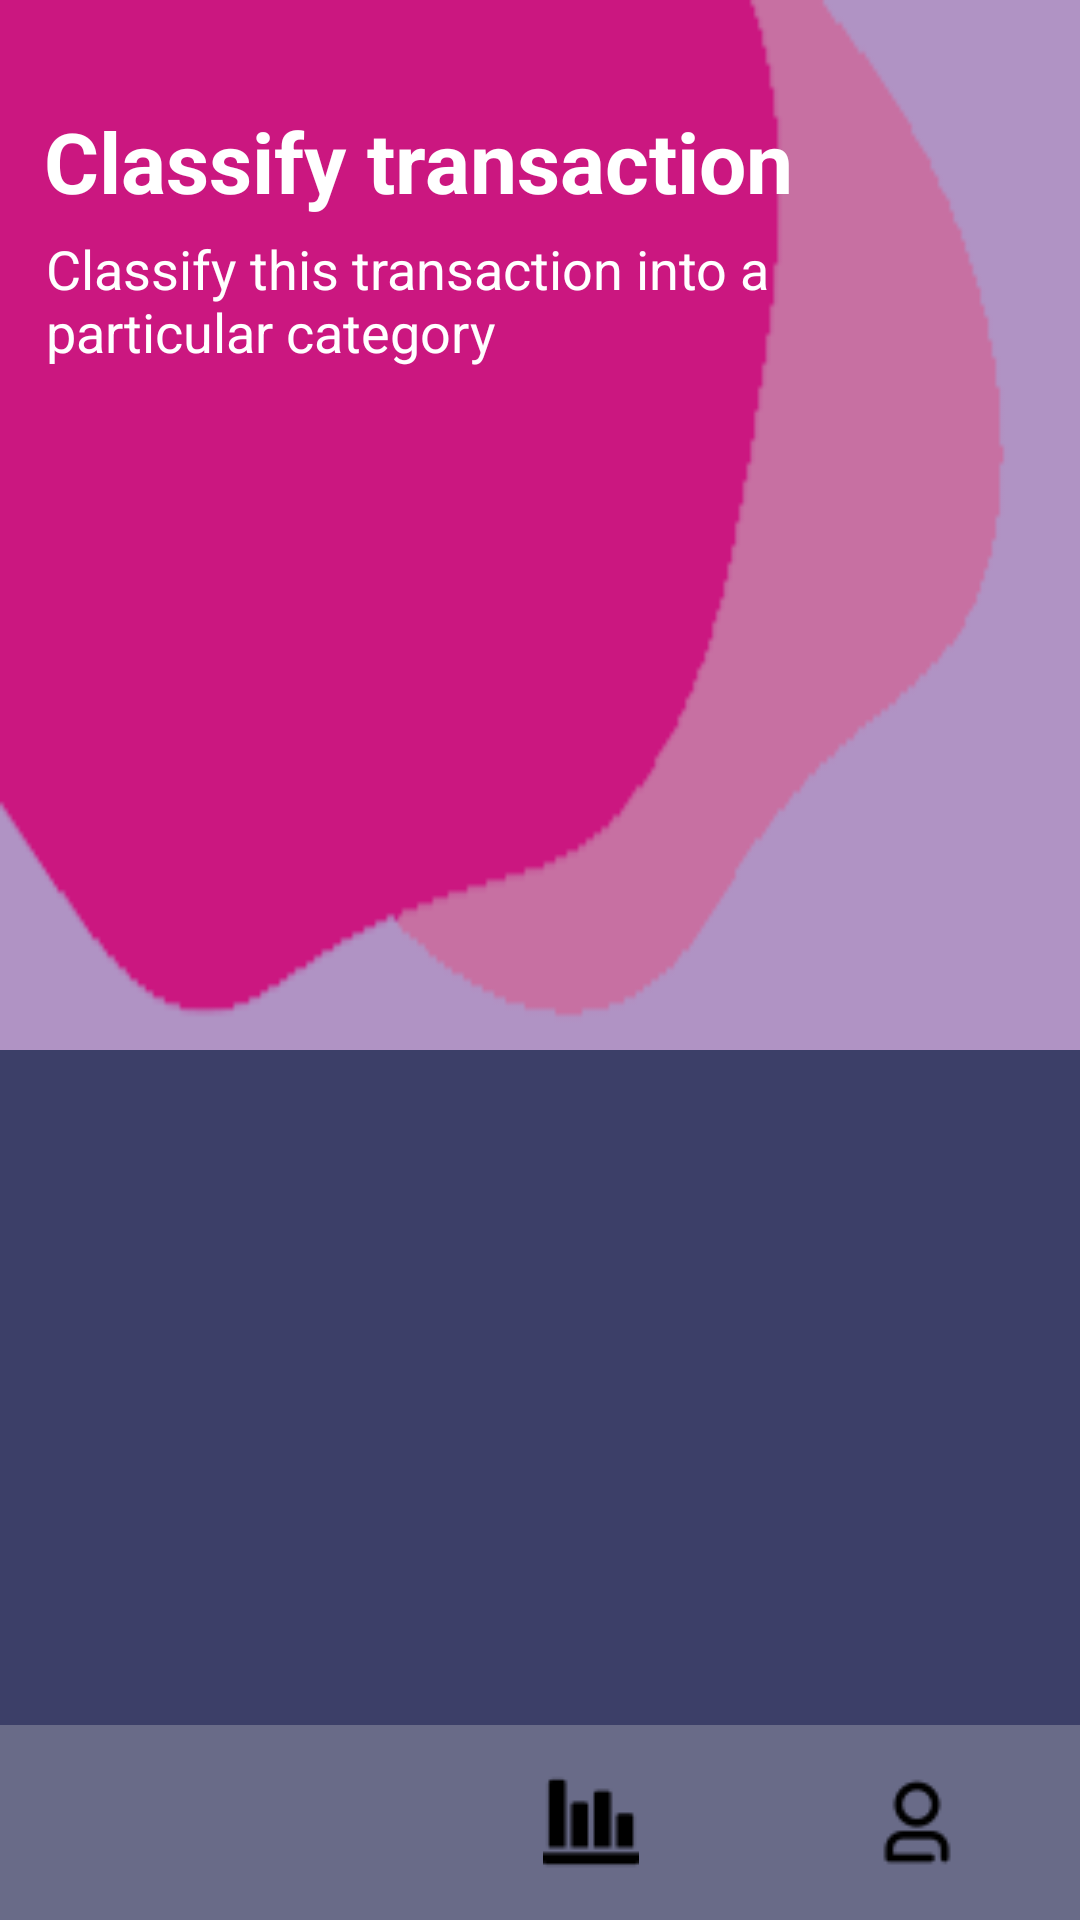

Screen size 1080w x 1920h. Icon name, then its center in pixels as (x,y):
account: (917,1822)
stats: (591,1822)
